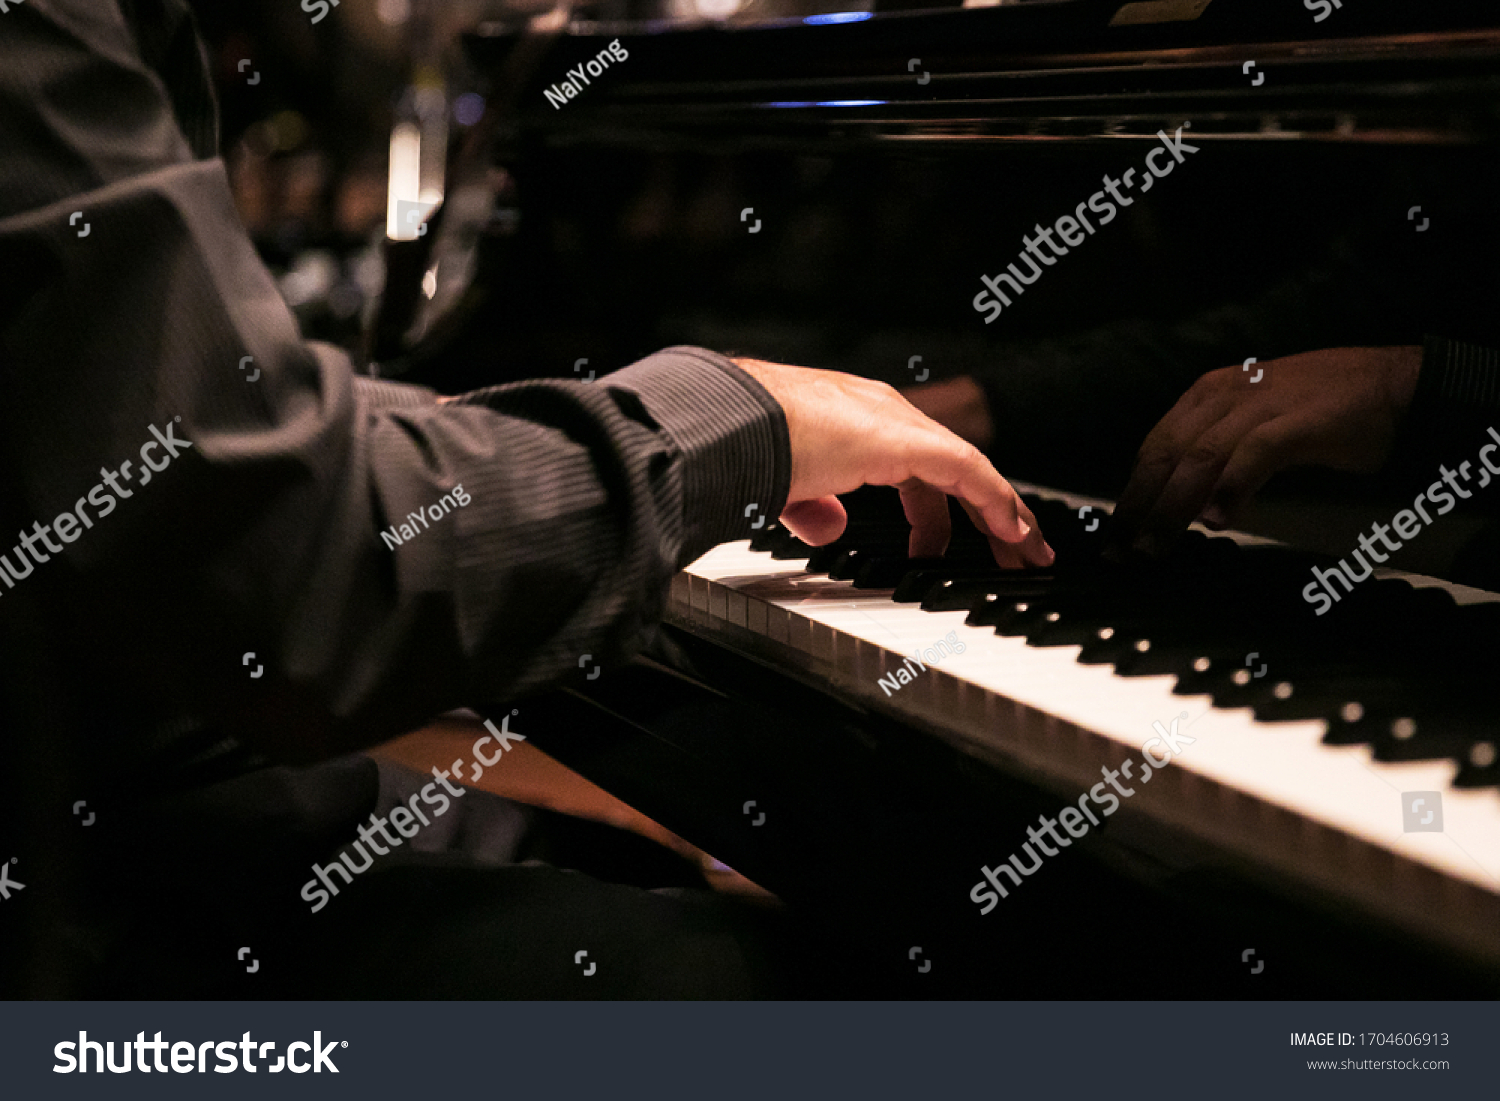Piano: (351, 73, 1500, 910)
